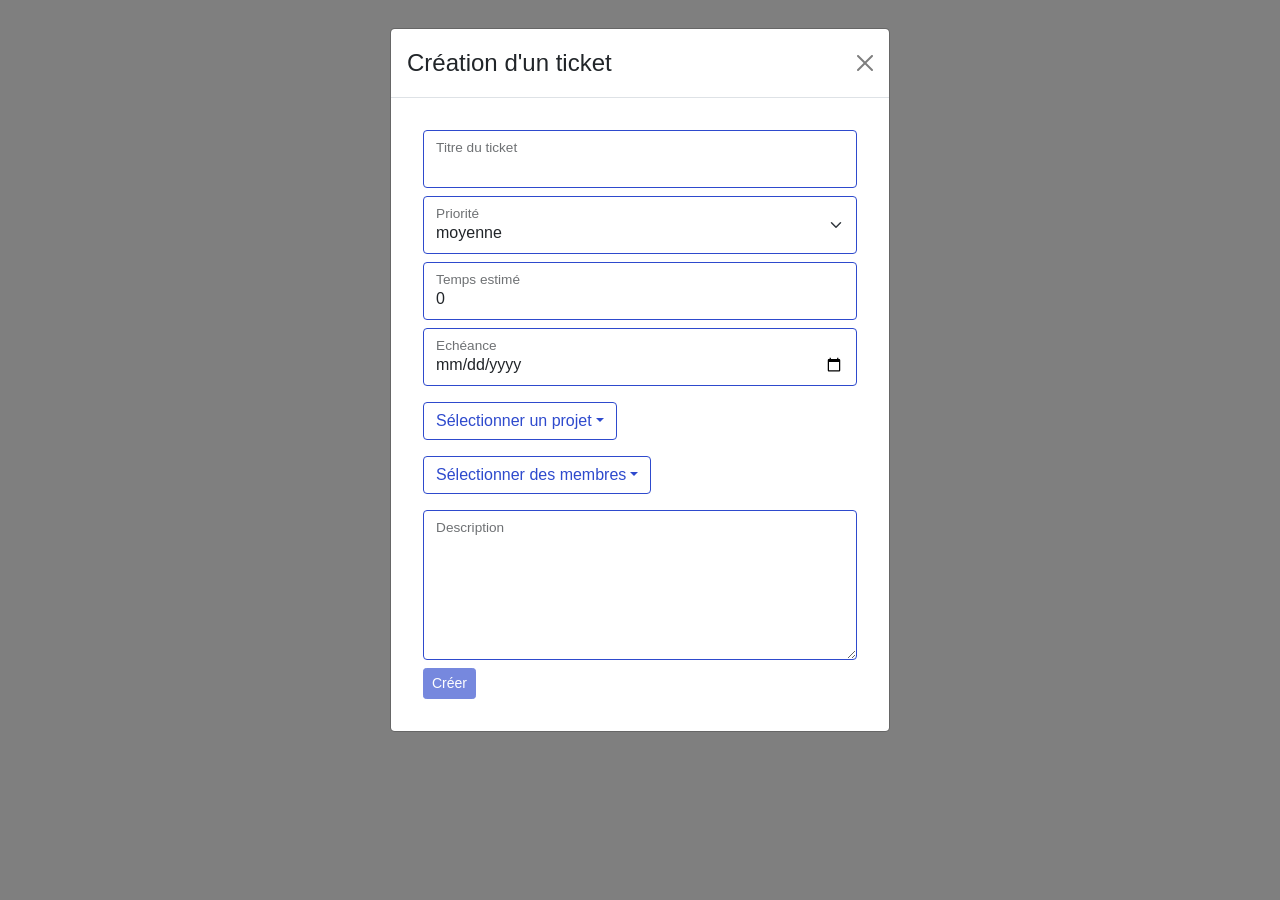
Scenario: CreateTicketForm layout › should not be possible to submit if the title is not filled
Expected: the button with test id "createTicketForm-create-button" is disabled, top-left (423, 668), bottom-right (476, 699)
Type "New ticket" into the field with test id "createTicketForm-title" at {"x": 640, "y": 159}, box top-left (423, 130), bottom-right (857, 188)
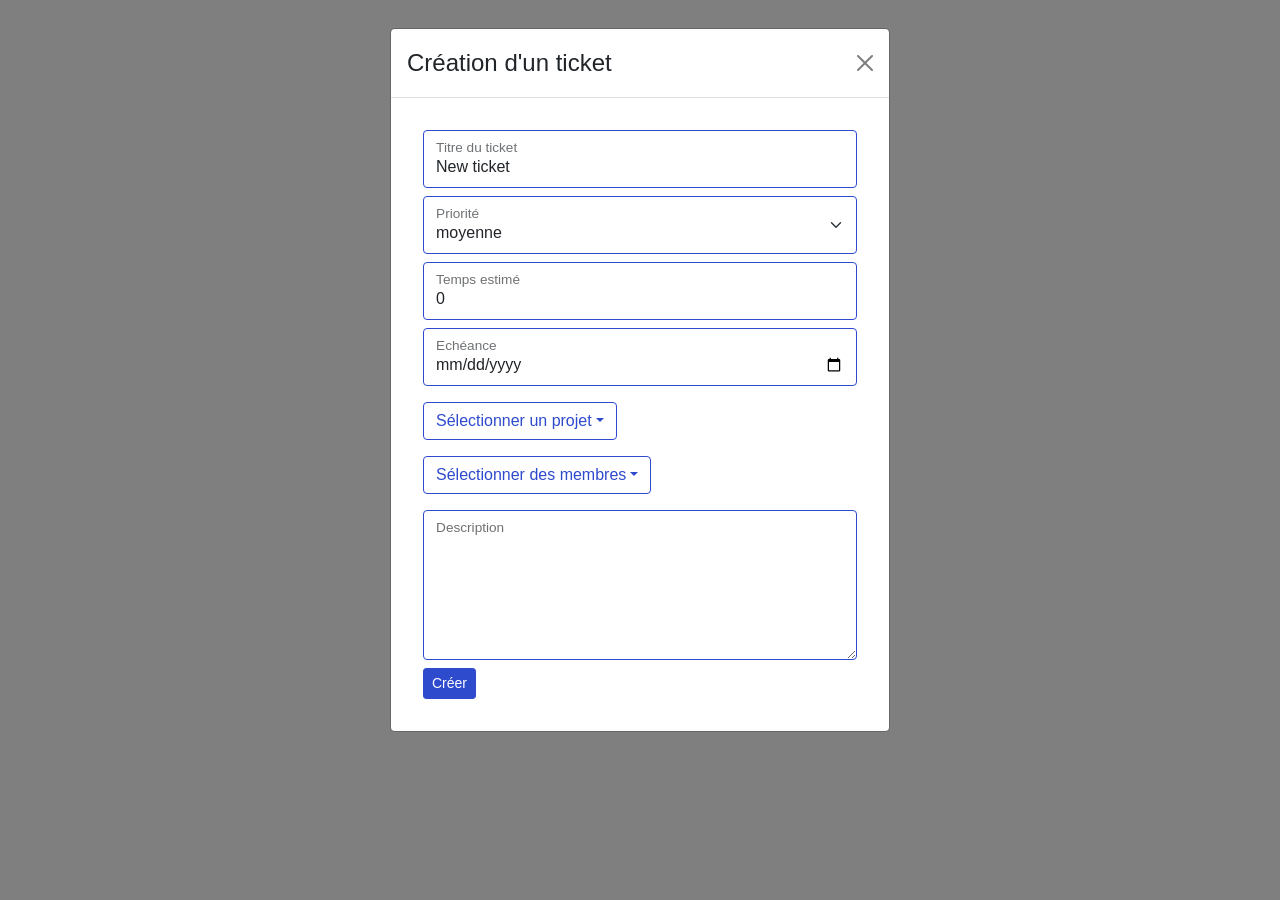
Expected: the button with test id "createTicketForm-create-button" is enabled, top-left (423, 668), bottom-right (476, 699)
